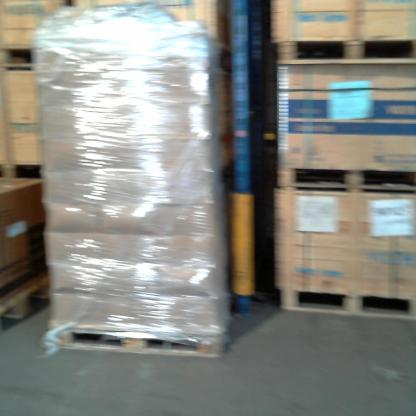pallet: (47, 321, 231, 361), (276, 283, 416, 326), (271, 159, 416, 195), (272, 34, 416, 67), (0, 271, 49, 334), (0, 41, 49, 75), (0, 155, 45, 187)
